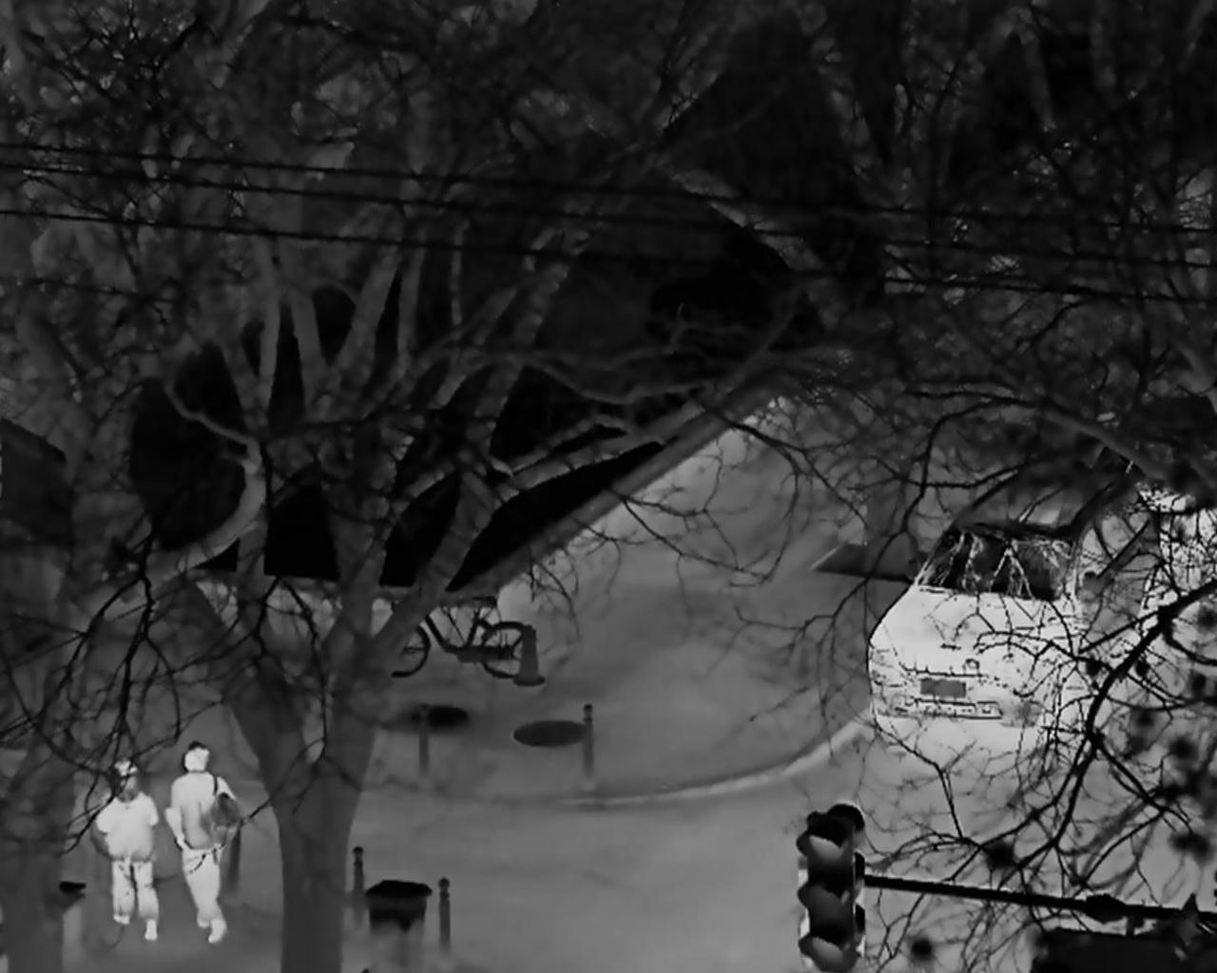person: (164, 742, 237, 944), (95, 759, 160, 942)
